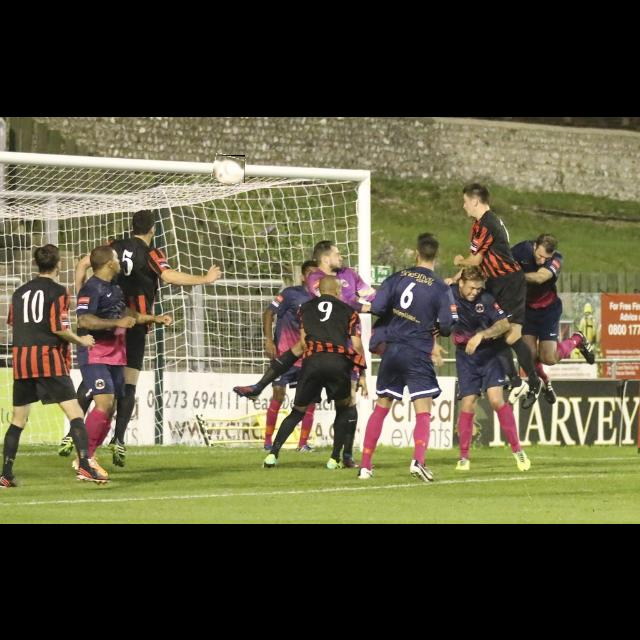Football: (213, 155, 245, 183)
